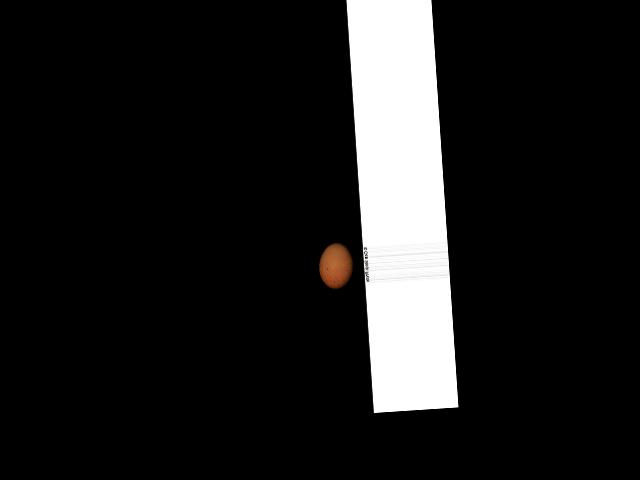egg: (317, 241, 355, 290)
